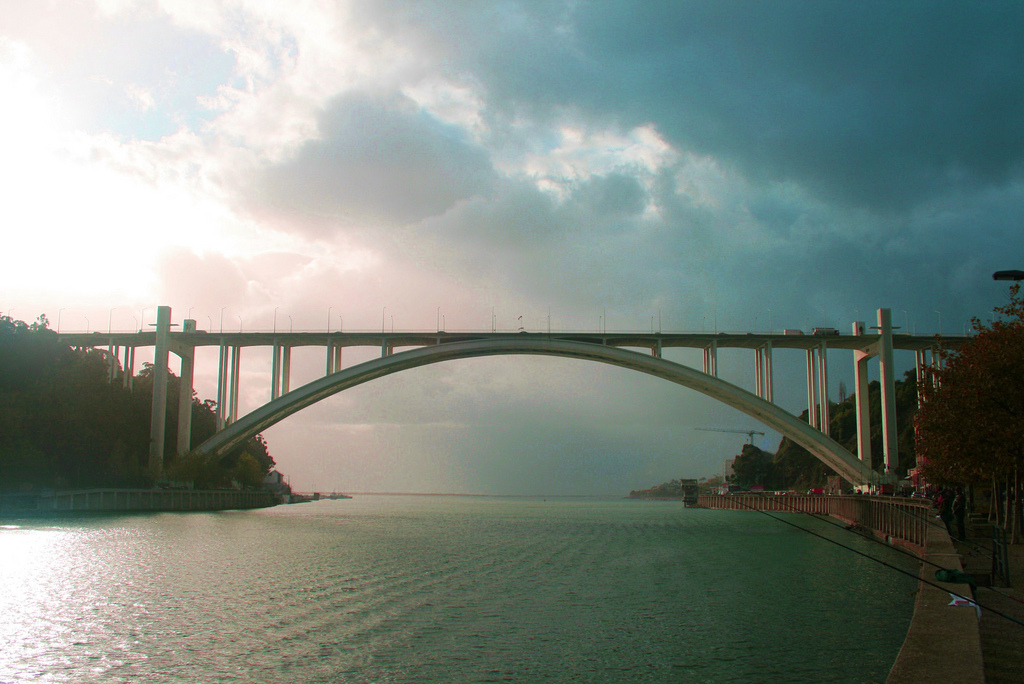arrabida: (47, 305, 995, 497)
